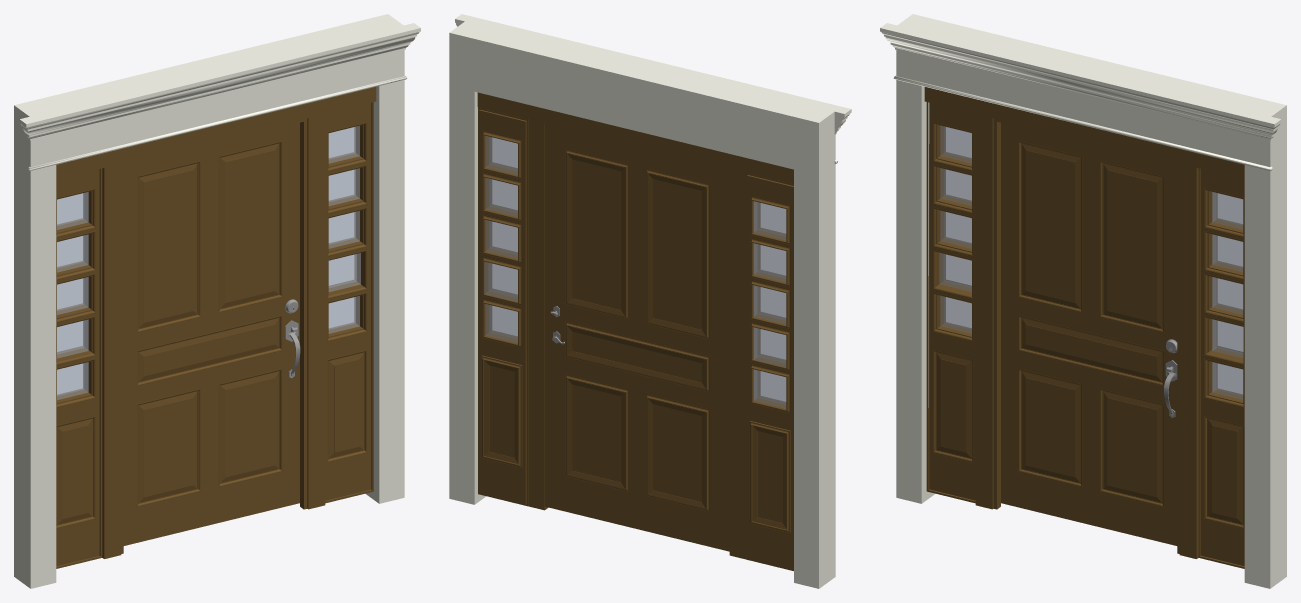
File: door-animation.fbx
3 views of the same model, side by side, from view 1: azimuth 30°, elevation 25°; view 2: azimuth 150°, elevation 25°; view 3: azimuth 330°, elevation 25° (orthographic).
Parts seen in each view (by area): view 1: doorFrame, door; view 2: doorFrame, door; view 3: doorFrame, door.
Boxes of the visible parts, <box> form: doorFrame: <box>14,14,420,588</box>; door: <box>123,122,299,545</box>; doorFrame: <box>449,14,851,588</box>; door: <box>545,123,729,551</box>; doorFrame: <box>880,14,1286,588</box>; door: <box>1001,122,1177,545</box>.
Size of the model in its own units: 9134 by 10433 by 909.
